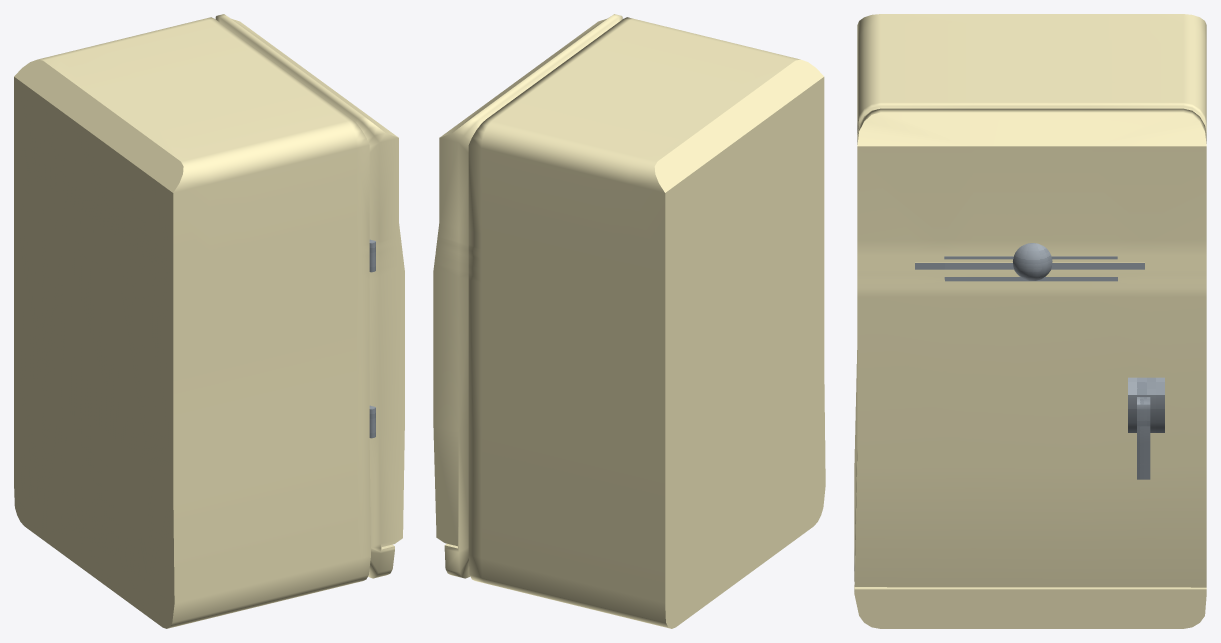
Rendered from refri.obj.
The picture shows the model from 3 angles, left to right: view 1: azimuth 30°, elevation 25°; view 2: azimuth 150°, elevation 25°; view 3: azimuth 270°, elevation 25°; orthographic projection. The views are drawn at different scales.
Parts seen in each view (by area): view 1: cuerpoRefri1; view 2: cuerpoRefri1; view 3: cuerpoRefri1.
Boxes of the visible parts, box(x1,y1,x2,y2) form: cuerpoRefri1: box(14, 14, 404, 628); cuerpoRefri1: box(433, 14, 825, 628); cuerpoRefri1: box(854, 14, 1206, 628).
Size of the model in its own units: 1.56 by 2.67 by 1.68.
5 materials, 5 textured.
